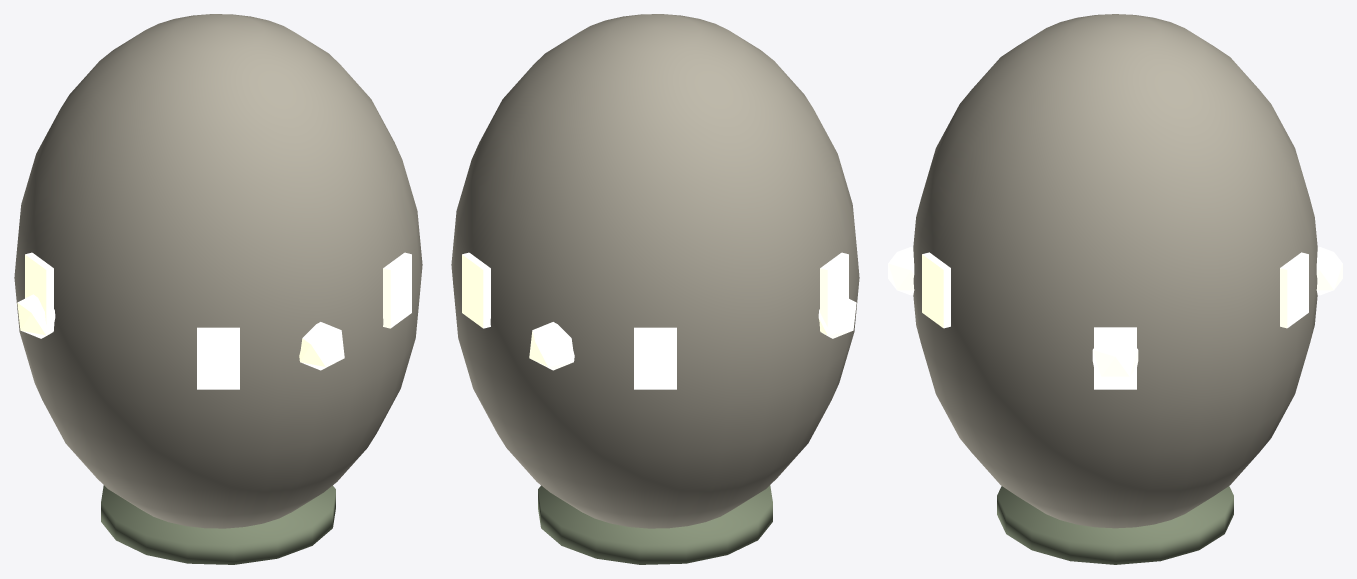
The model's file is egg_prehistoric_05.glb.
The picture shows the model from 3 angles, left to right: view 1: azimuth 30°, elevation 25°; view 2: azimuth 150°, elevation 25°; view 3: azimuth 270°, elevation 25°; orthographic projection.
Parts seen in each view (by area): view 1: ball; view 2: ball; view 3: ball.
Part boxes in pixels (x1=…): ball: x1=14, y1=14, x2=422, y2=564; ball: x1=451, y1=14, x2=859, y2=564; ball: x1=888, y1=14, x2=1342, y2=564.
Size of the model in its own units: 0.8494 by 1 by 0.8451.
